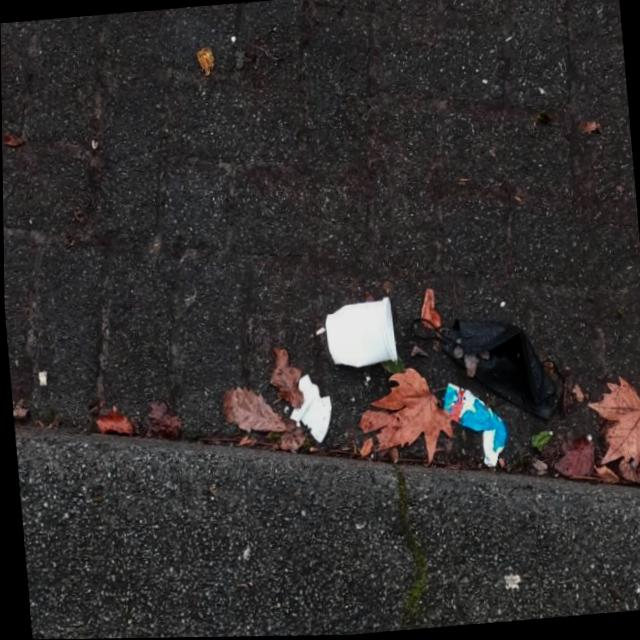Cup: (320, 295, 396, 371)
Mask: (406, 306, 568, 434)
Paper: (283, 371, 333, 447)
Plastic: (438, 376, 508, 472)
